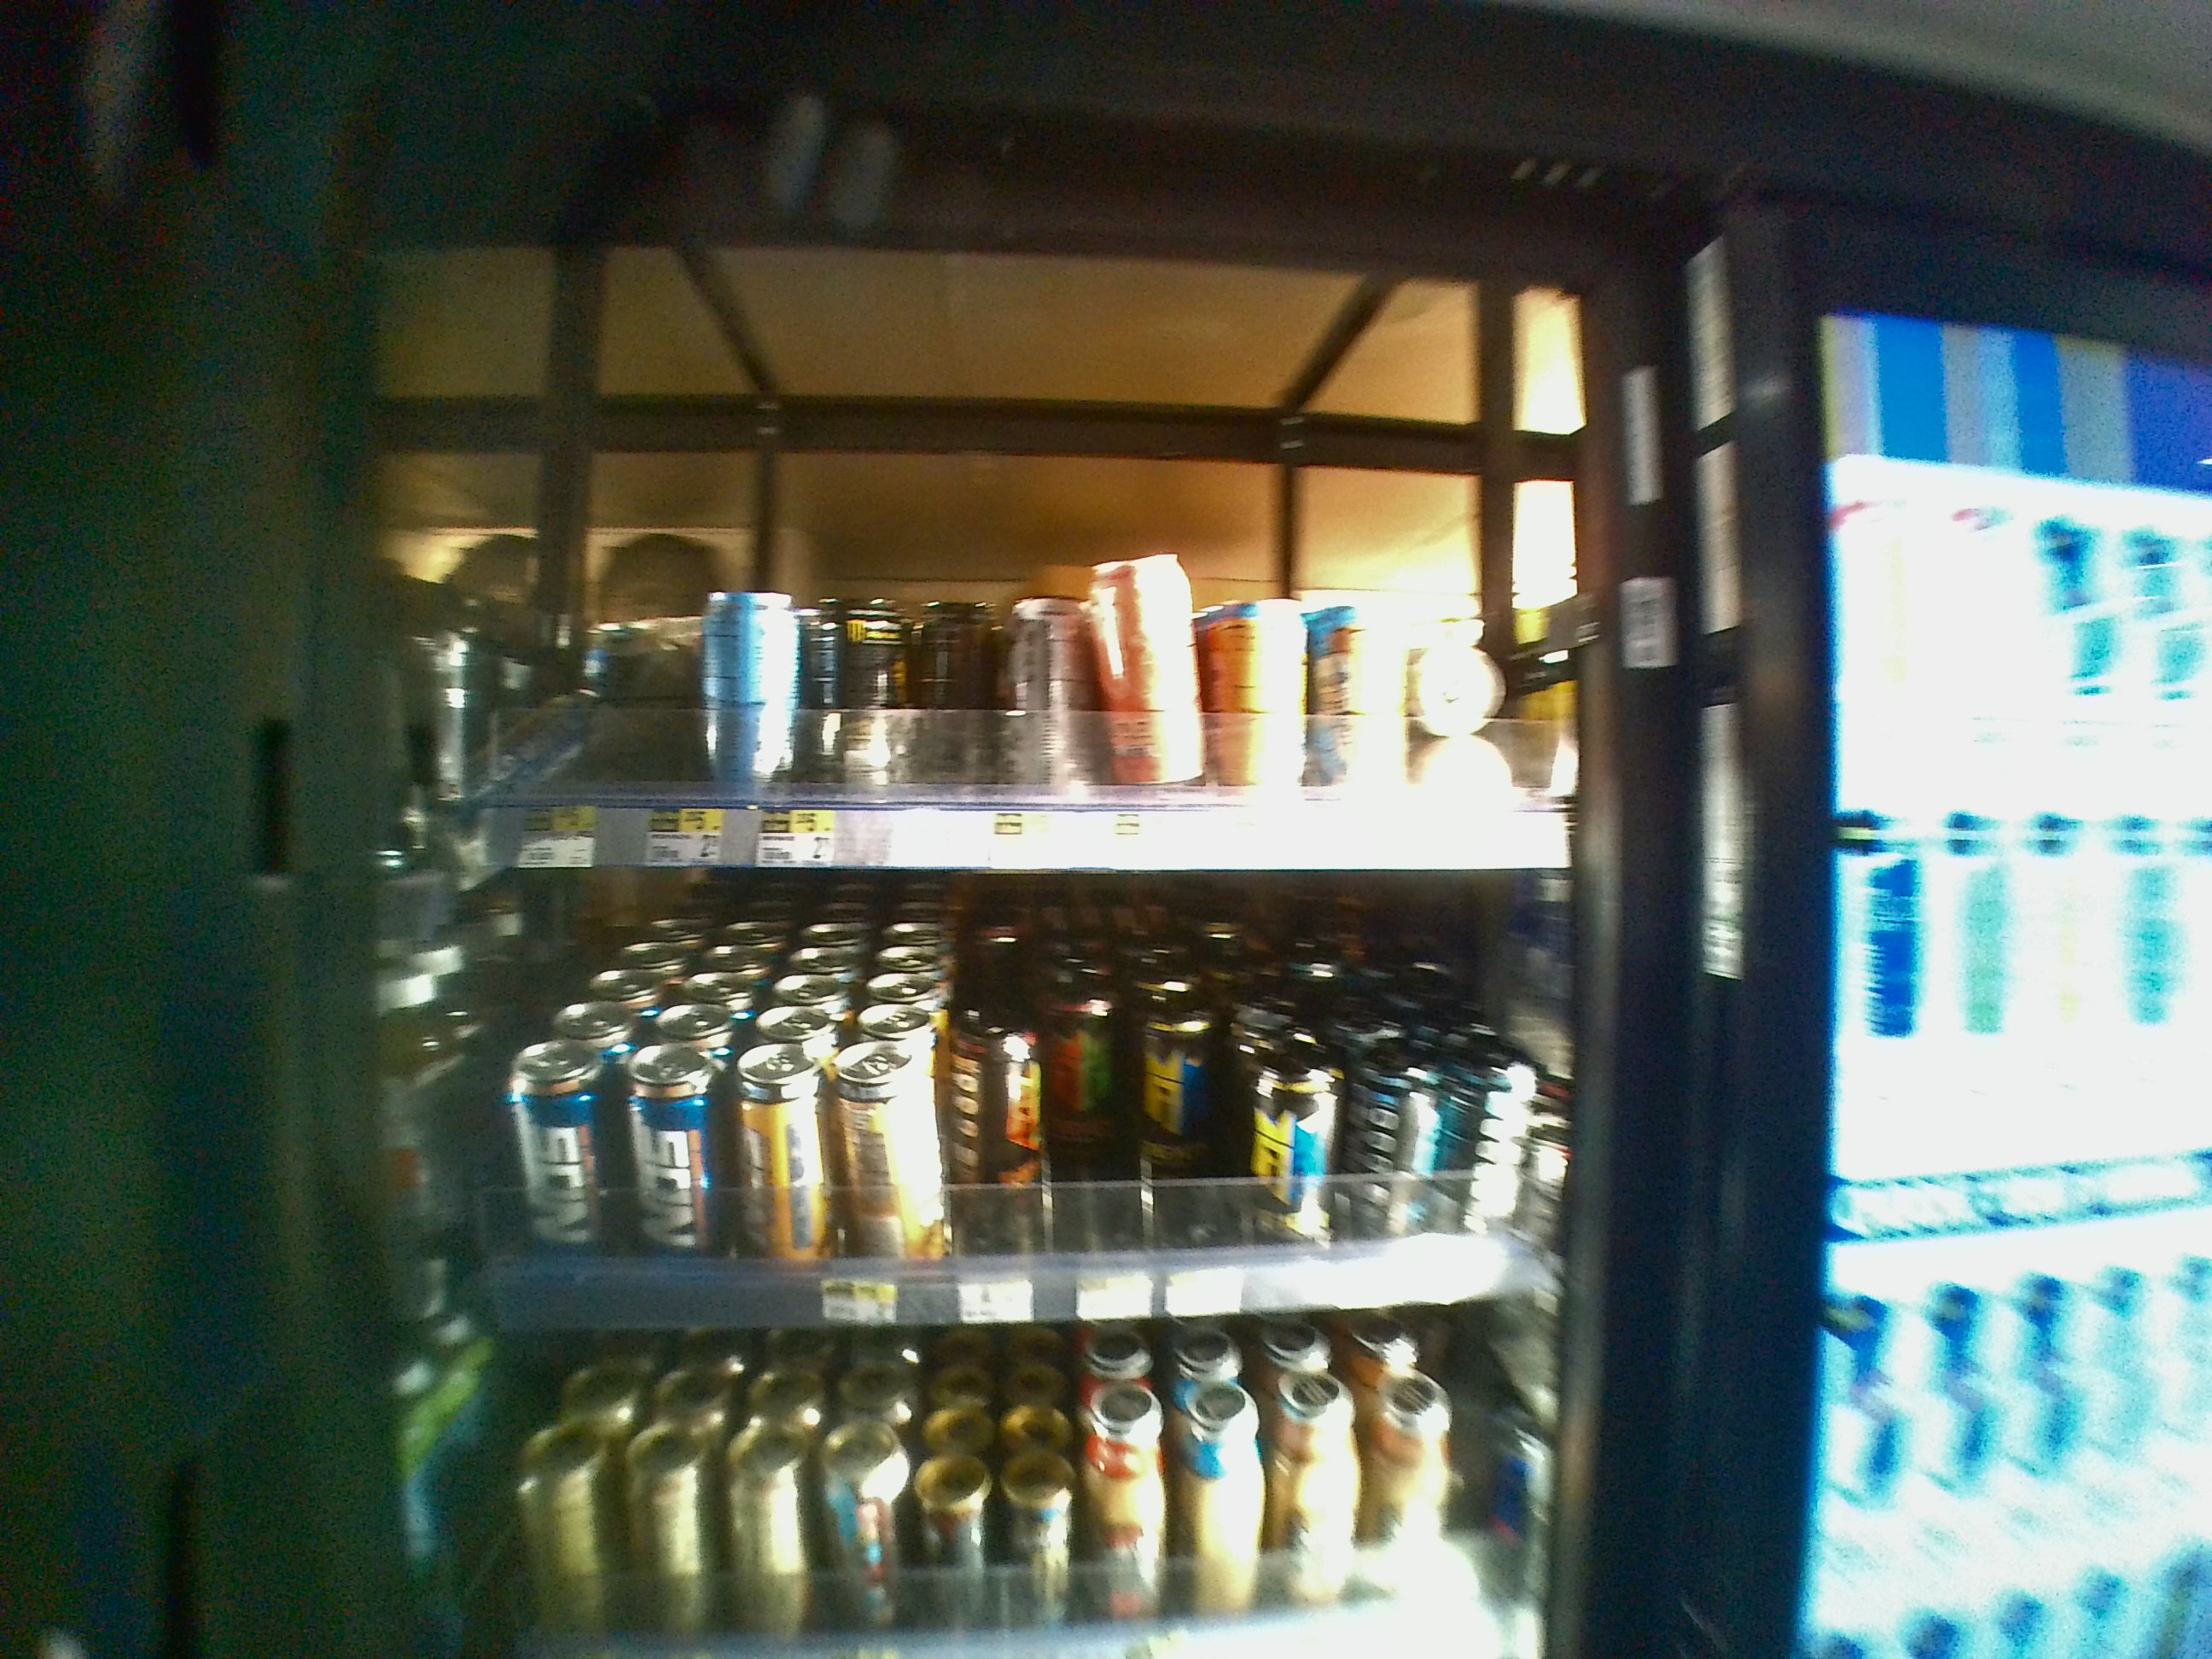shelf: (381, 249, 1615, 871), (378, 871, 1597, 1324)
